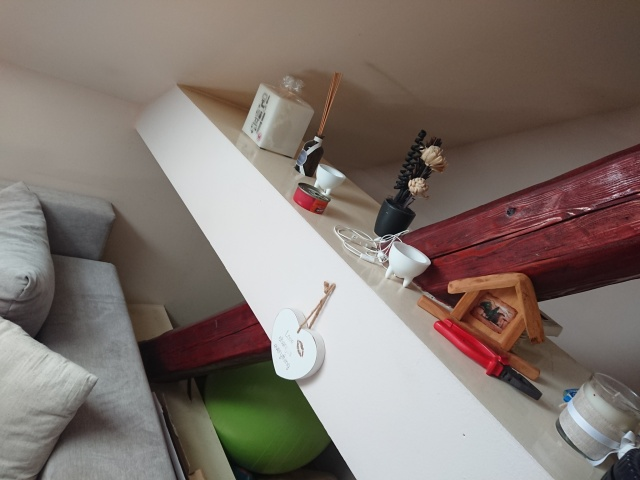Gavrilovic Pork Liver Pate 100g: (291, 180, 331, 215)
